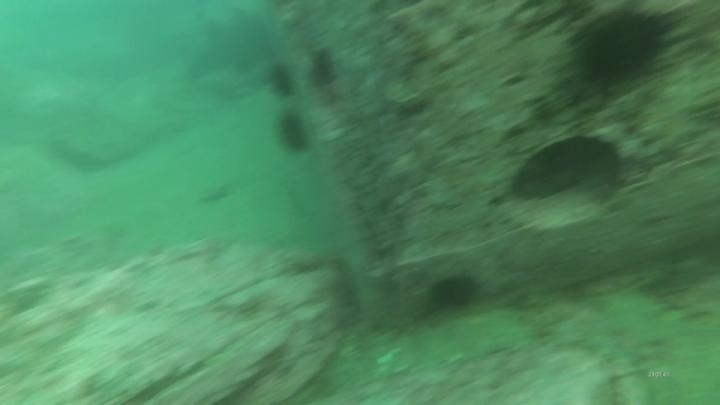echinus: (571, 6, 674, 93), (427, 270, 482, 315), (273, 108, 314, 158), (306, 46, 340, 90), (264, 60, 299, 102)
